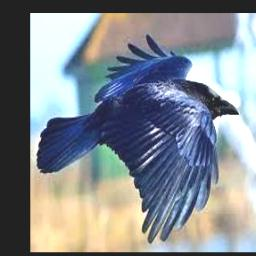Crow: (36, 34, 239, 244)
